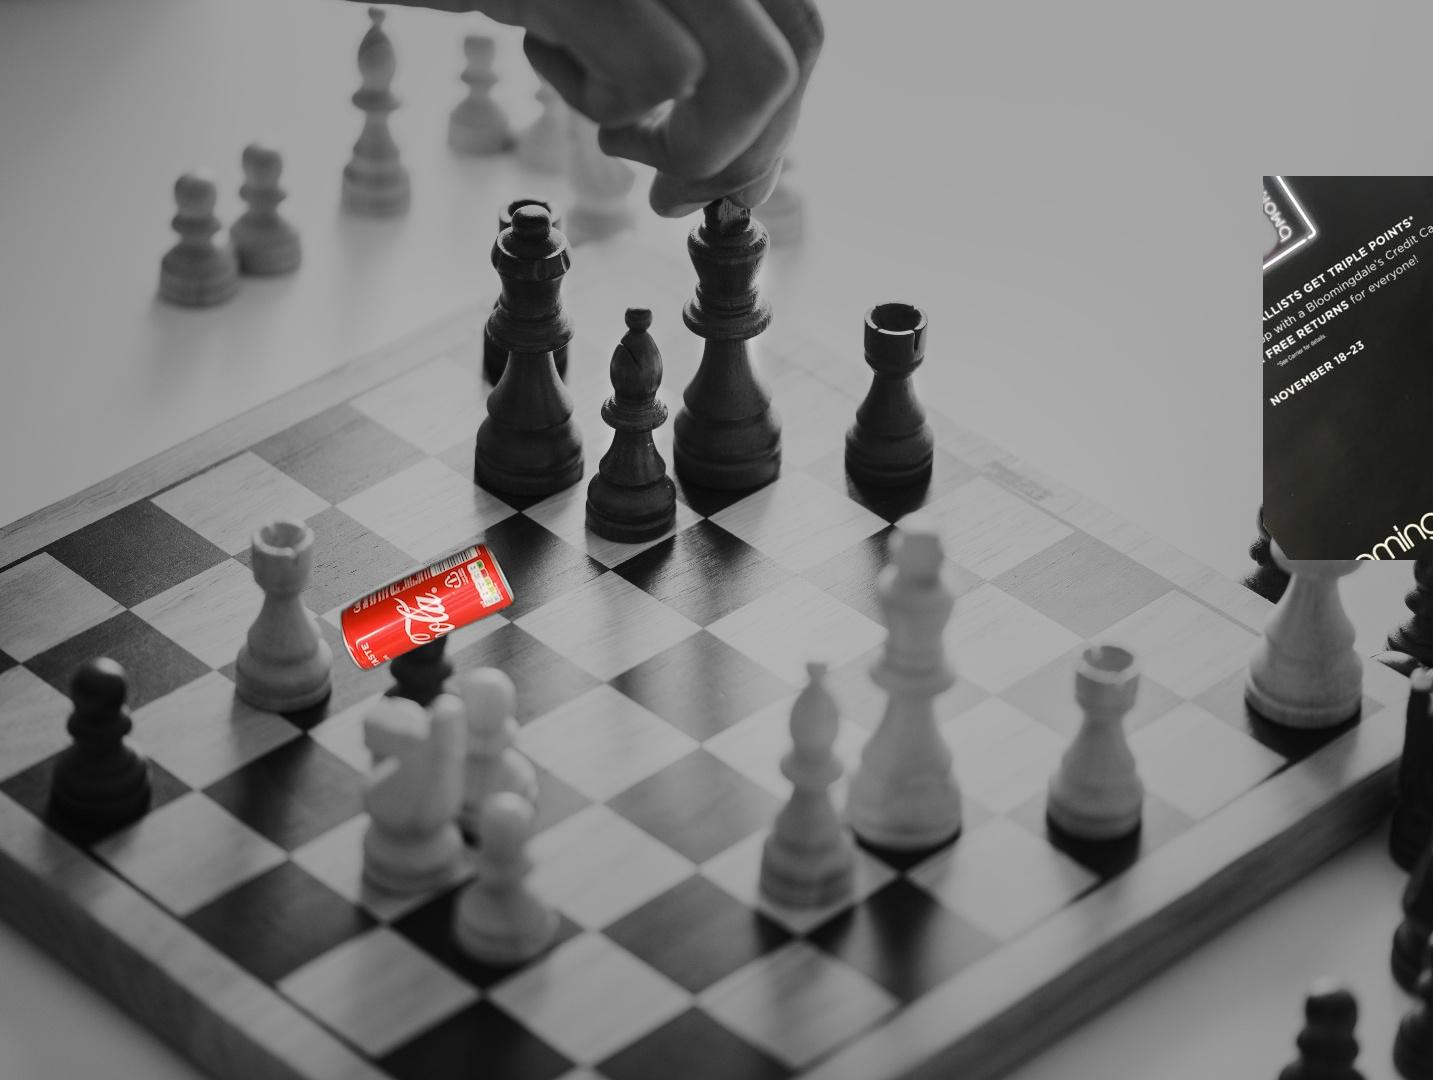metal-cans: (336, 218, 549, 676)
paper: (1263, 176, 1433, 560)
